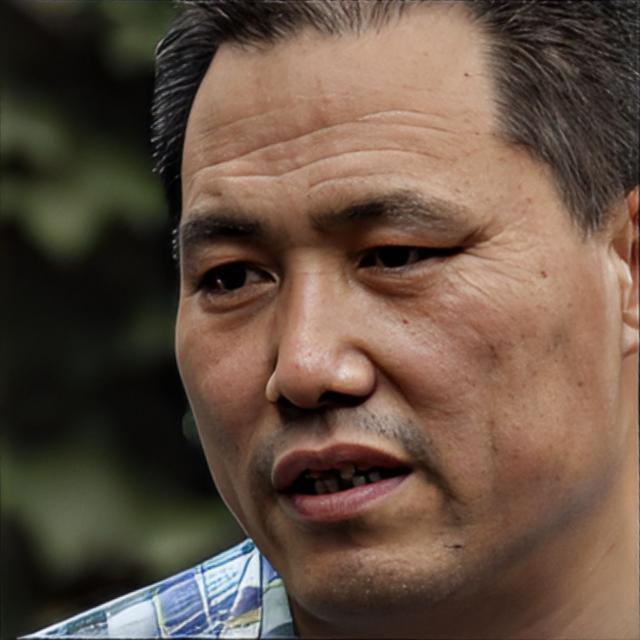sad: (168, 12, 598, 616)
